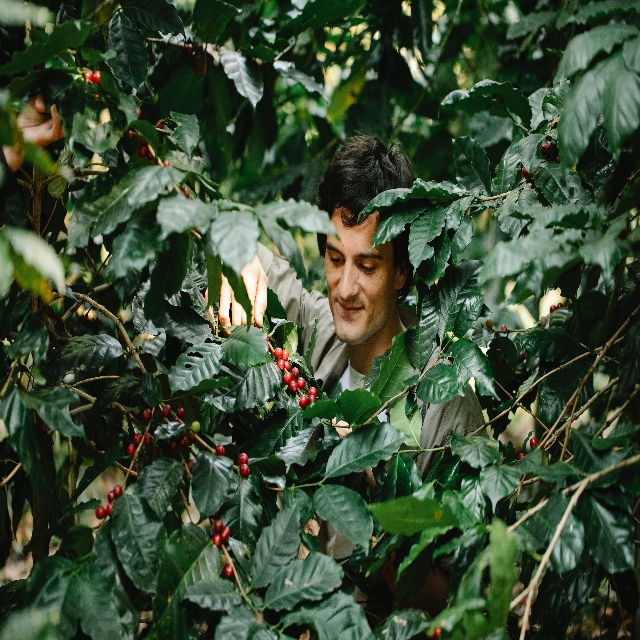Sin_guantes: (200, 259, 271, 332)
